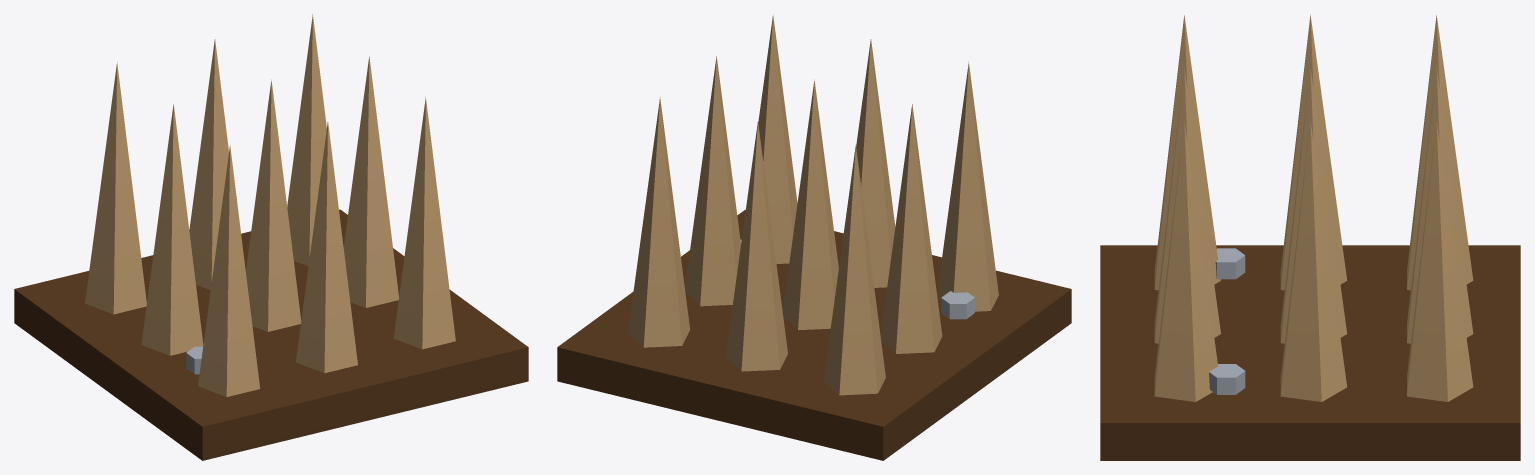
Rendered from item_spikes.glb.
3 views of the same model, side by side, from view 1: azimuth 30°, elevation 25°; view 2: azimuth 150°, elevation 25°; view 3: azimuth 270°, elevation 25° (orthographic). The views are drawn at different scales.
Visible parts, largest first — view 1: item_spikes; view 2: item_spikes, item_spikes_detail; view 3: item_spikes, item_spikes_detail.
Part boxes in pixels (x1,y1,x2,y2): item_spikes: (14,14,528,460); item_spikes: (557,14,1071,460); item_spikes_detail: (740,239,974,319); item_spikes: (1100,14,1520,460); item_spikes_detail: (1209,248,1245,394).
Size of the model in its own units: 0.4 by 0.32 by 0.4.
